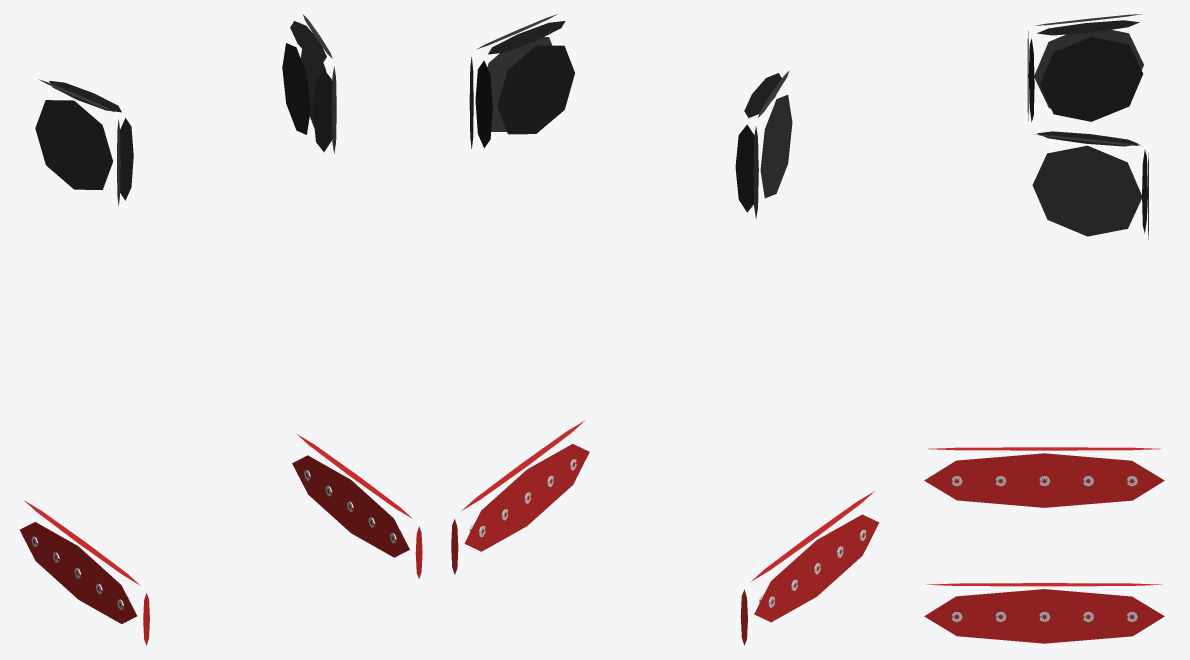
The model's file is seat_halo_brackets.glb.
3 views of the same model, side by side, from view 1: azimuth 30°, elevation 25°; view 2: azimuth 150°, elevation 25°; view 3: azimuth 270°, elevation 25° (orthographic). The views are drawn at different scales.
Parts seen in each view (by area): view 1: Seat_Halo_Brackets_Assembly; view 2: Seat_Halo_Brackets_Assembly; view 3: Seat_Halo_Brackets_Assembly.
Boxes of the visible parts, x1,y1,x2,y2 form: Seat_Halo_Brackets_Assembly: [19, 14, 422, 645]; Seat_Halo_Brackets_Assembly: [451, 14, 879, 645]; Seat_Halo_Brackets_Assembly: [924, 14, 1164, 643].
Size of the model in its own units: 0.456 by 0.75 by 0.36.
